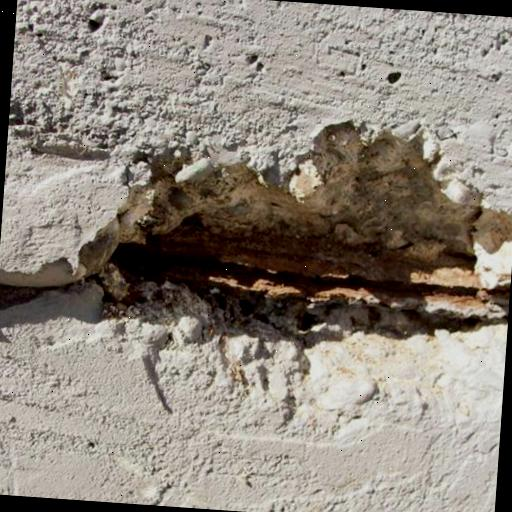spalling: (80, 111, 508, 345)
